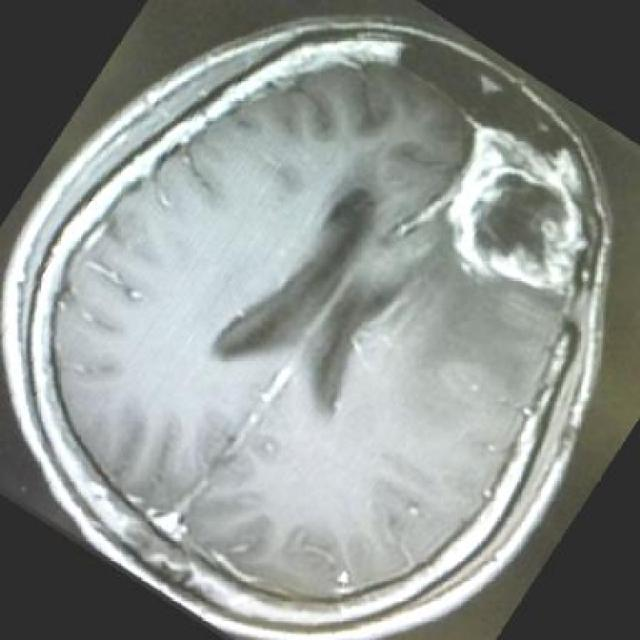Brain-Tumor: (432, 111, 608, 318)
